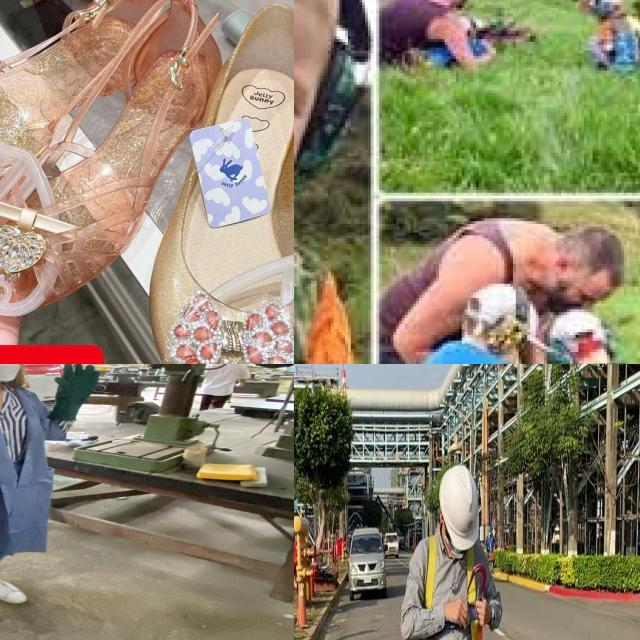Ear-protection: (294, 33, 364, 175), (479, 306, 527, 361), (535, 329, 578, 364), (459, 19, 482, 42), (587, 0, 607, 13)
Sandals: (0, 0, 221, 315), (141, 0, 294, 364)
face_mask: (0, 364, 25, 385)
hand_glove: (50, 364, 106, 396)
person: (294, 0, 374, 364), (0, 364, 111, 626)
shoes: (0, 565, 34, 606)
